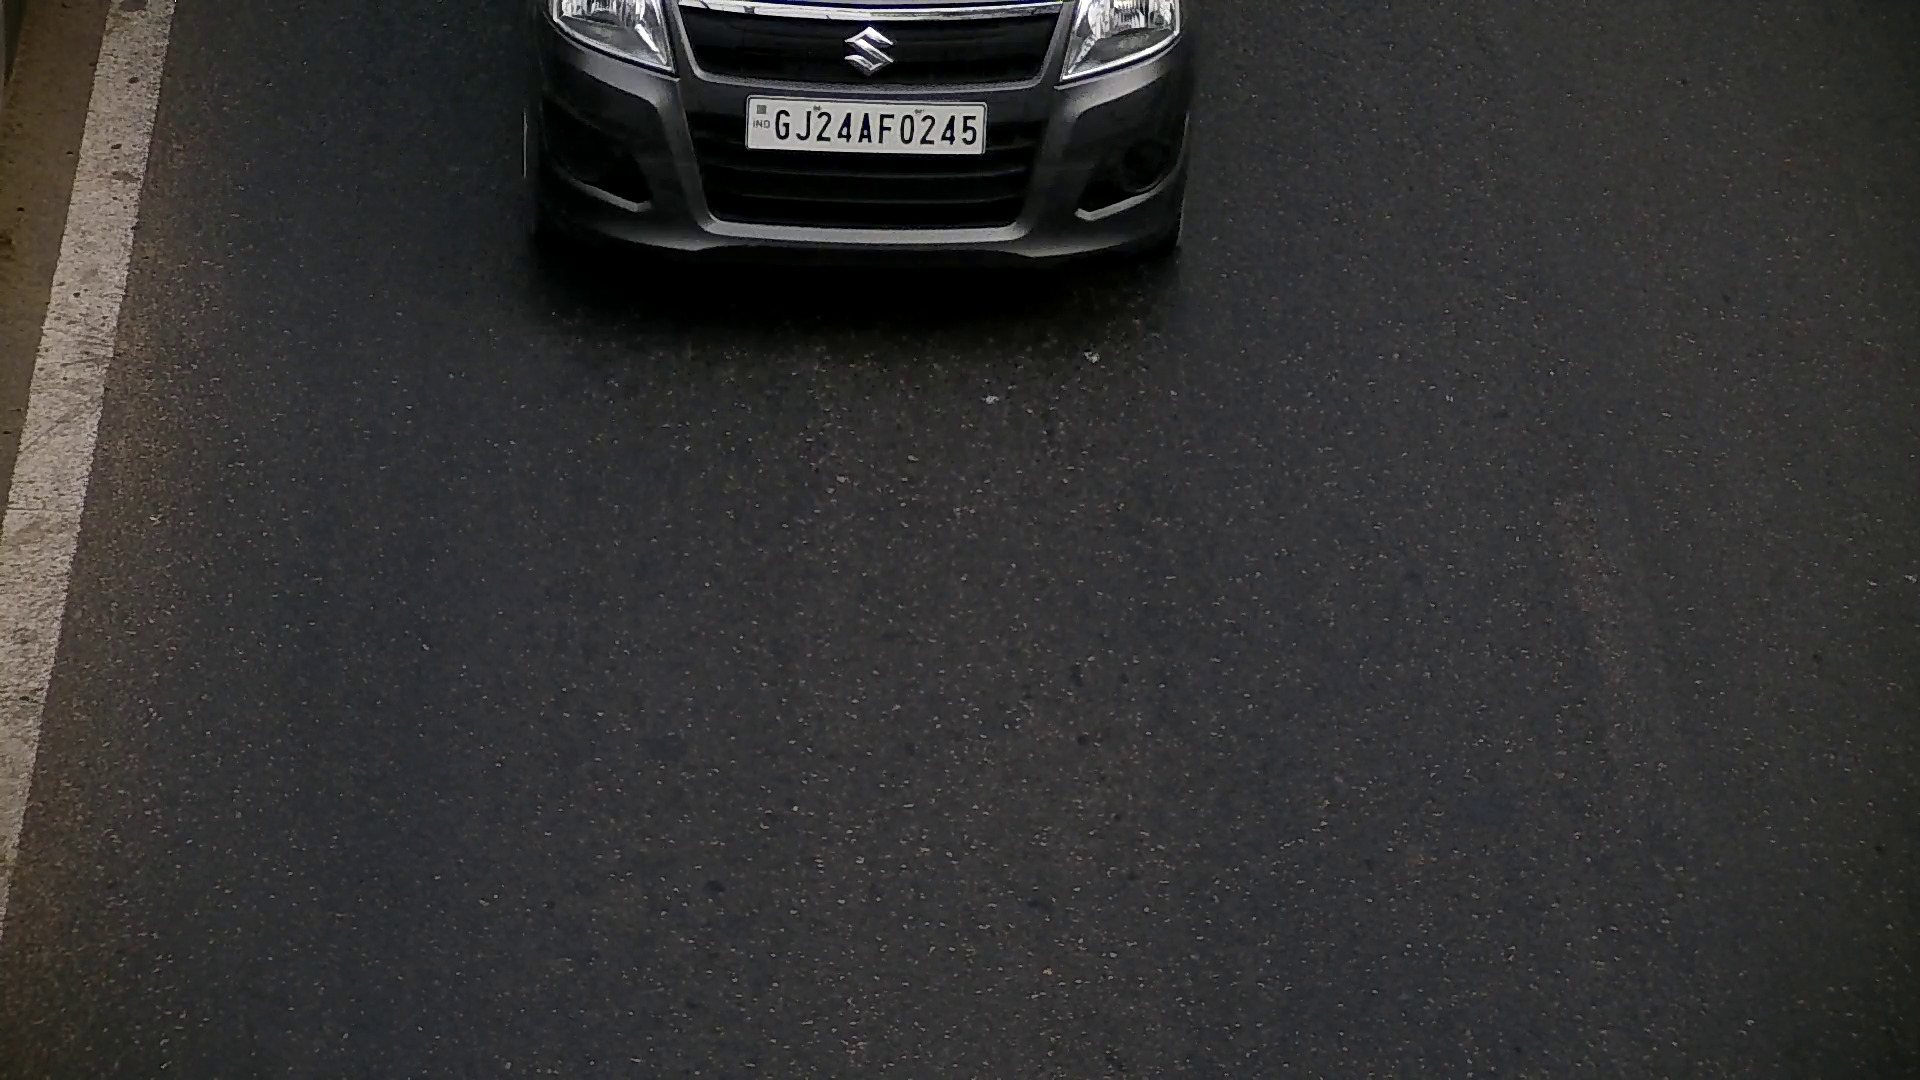numberplate: (735, 88, 992, 167)
